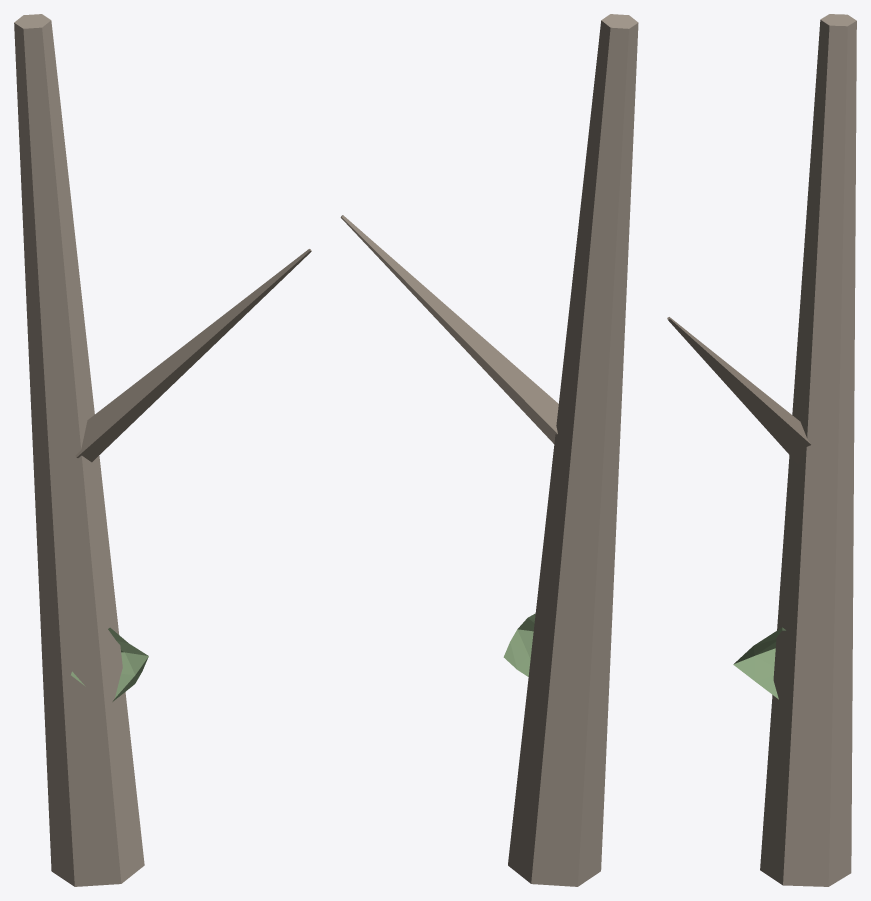
Rendered from snag_v28.glb.
3 views of the same model, side by side, from view 1: azimuth 30°, elevation 25°; view 2: azimuth 210°, elevation 25°; view 3: azimuth 270°, elevation 25° (orthographic). The views are drawn at different scales.
Visible parts, largest first — view 1: lod0; view 2: lod0; view 3: lod0.
Boxes of the visible parts, <box> form: lod0: <box>14,14,311,886</box>; lod0: <box>340,14,638,886</box>; lod0: <box>667,14,856,886</box>.
Size of what is drawn, in the model's own units: 0.9926 by 3.92 by 0.8097.
